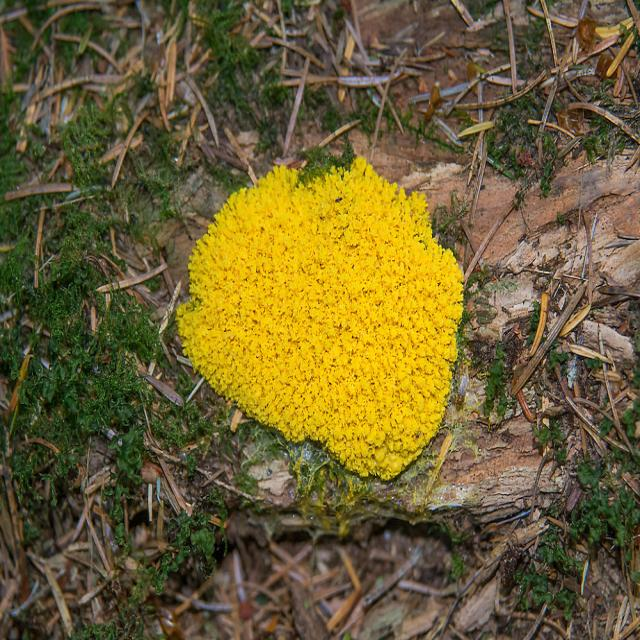Dog_vomit_slime_mold: (174, 120, 473, 485)
